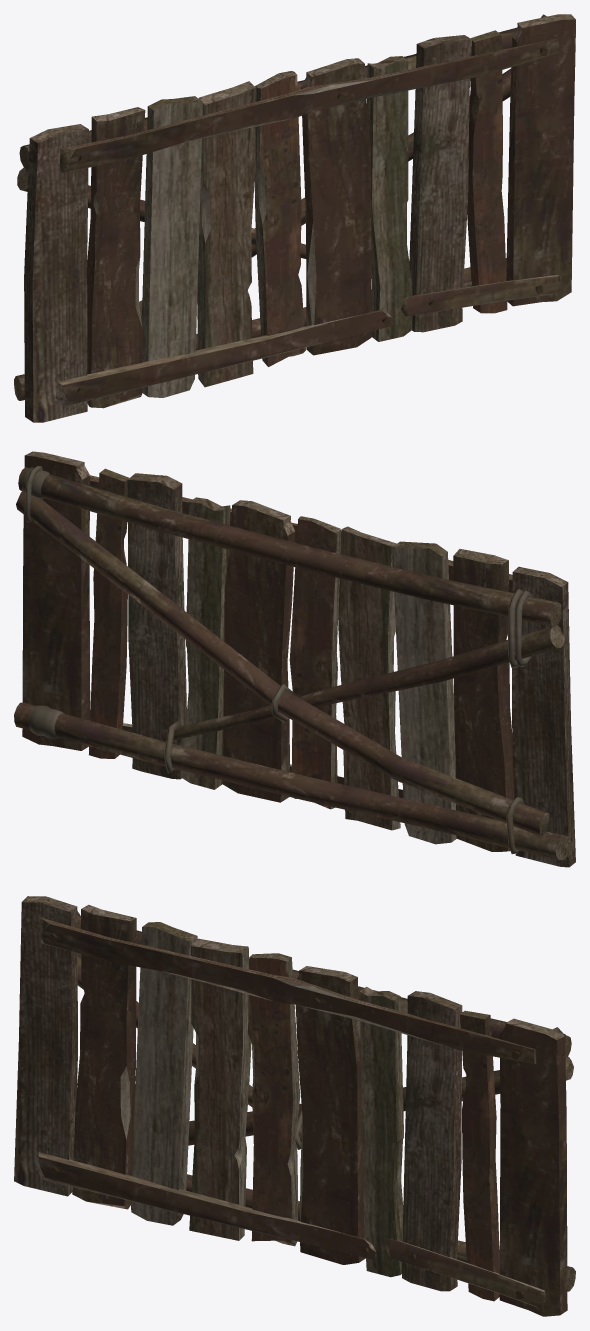
Rendered from GEN_PRO_Dock_Bridge_3m_01A_LOD0-transformed.glb.
The picture shows the model from 3 angles, top to bottom: view 1: azimuth 30°, elevation 25°; view 2: azimuth 150°, elevation 25°; view 3: azimuth 330°, elevation 25°; orthographic projection.
Visible parts, largest first — view 1: GEN_PRO_Dock_Bridge_3m_01A_LOD0; view 2: GEN_PRO_Dock_Bridge_3m_01A_LOD0; view 3: GEN_PRO_Dock_Bridge_3m_01A_LOD0.
Boxes of the visible parts, <box> form: GEN_PRO_Dock_Bridge_3m_01A_LOD0: <box>14,14,575,422</box>; GEN_PRO_Dock_Bridge_3m_01A_LOD0: <box>14,451,575,867</box>; GEN_PRO_Dock_Bridge_3m_01A_LOD0: <box>14,896,575,1316</box>.
Size of the model in its own units: 0.0301 by 0.0156 by 0.00386.
Materials: 2 (2 with a texture image).
